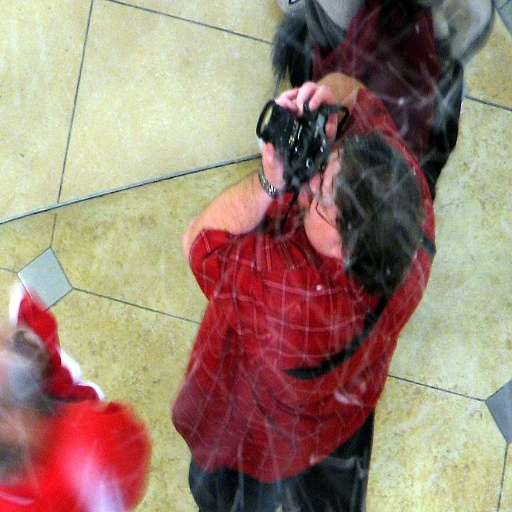hand: (260, 85, 297, 188), (293, 81, 338, 138)
